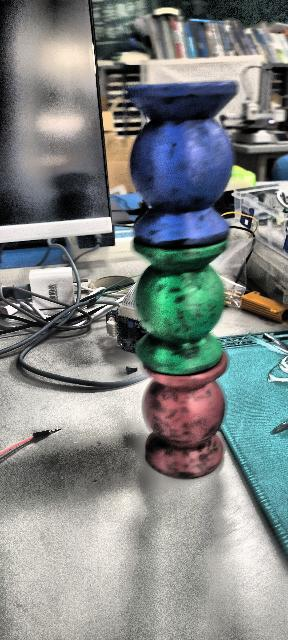blue: (115, 79, 242, 256)
green: (135, 235, 234, 384)
red: (139, 357, 231, 479)
